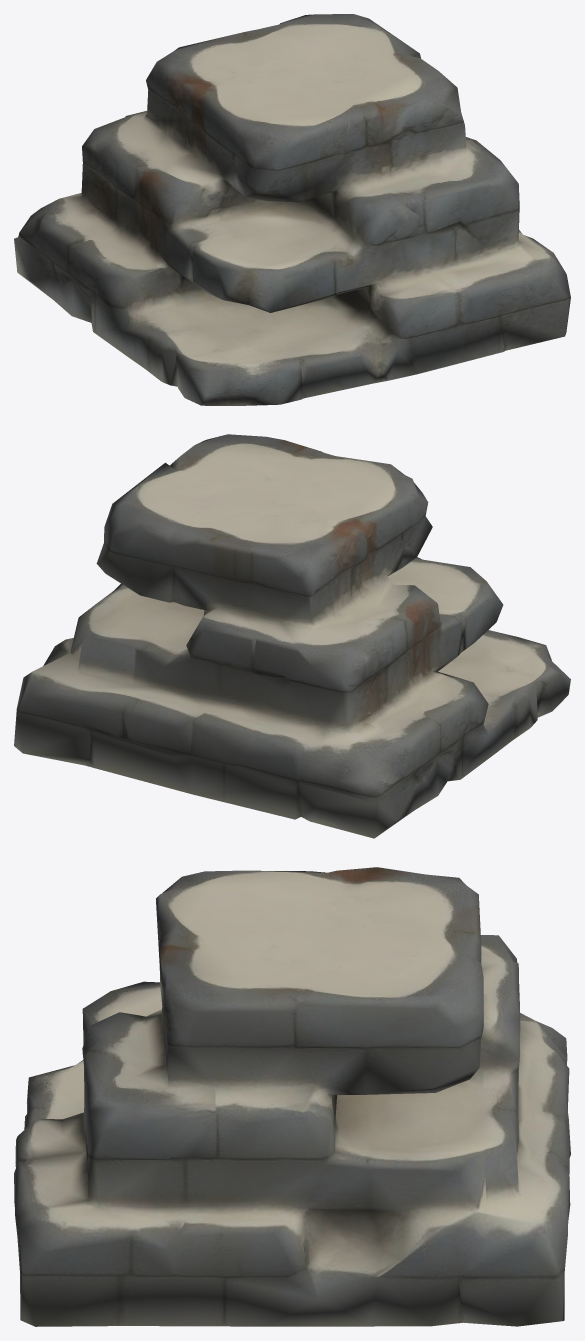
Rendered from sunken-shelf-mass.glb.
The picture shows the model from 3 angles, top to bottom: view 1: azimuth 30°, elevation 25°; view 2: azimuth 150°, elevation 25°; view 3: azimuth 270°, elevation 25°; orthographic projection. The views are drawn at different scales.
Parts seen in each view (by area): view 1: tripo_node_44baa170-0af5-47da-b44e-274bf97e2f0c; view 2: tripo_node_44baa170-0af5-47da-b44e-274bf97e2f0c; view 3: tripo_node_44baa170-0af5-47da-b44e-274bf97e2f0c.
Boxes of the visible parts, <box> form: tripo_node_44baa170-0af5-47da-b44e-274bf97e2f0c: <box>14,14,570,405</box>; tripo_node_44baa170-0af5-47da-b44e-274bf97e2f0c: <box>14,434,570,838</box>; tripo_node_44baa170-0af5-47da-b44e-274bf97e2f0c: <box>14,867,570,1326</box>.
Size of the model in its own units: 0.9789 by 0.572 by 0.98.
Materials: 1 (1 with a texture image).
